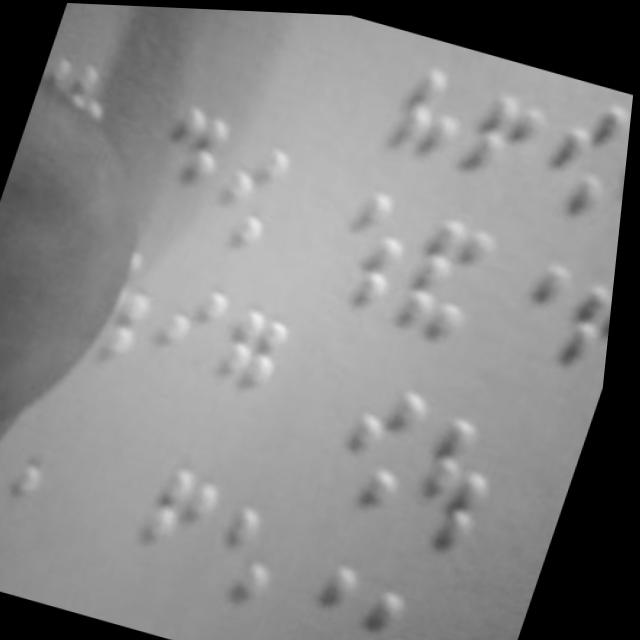braiile: (131, 455, 240, 610), (413, 406, 526, 553), (200, 290, 309, 440), (400, 197, 511, 343), (340, 362, 447, 512), (134, 268, 239, 416), (201, 498, 308, 640), (138, 90, 241, 234), (331, 168, 433, 312), (532, 79, 635, 216), (206, 117, 307, 254), (486, 238, 585, 377), (546, 265, 620, 406), (279, 543, 378, 640), (347, 569, 448, 640), (599, 117, 632, 243)
